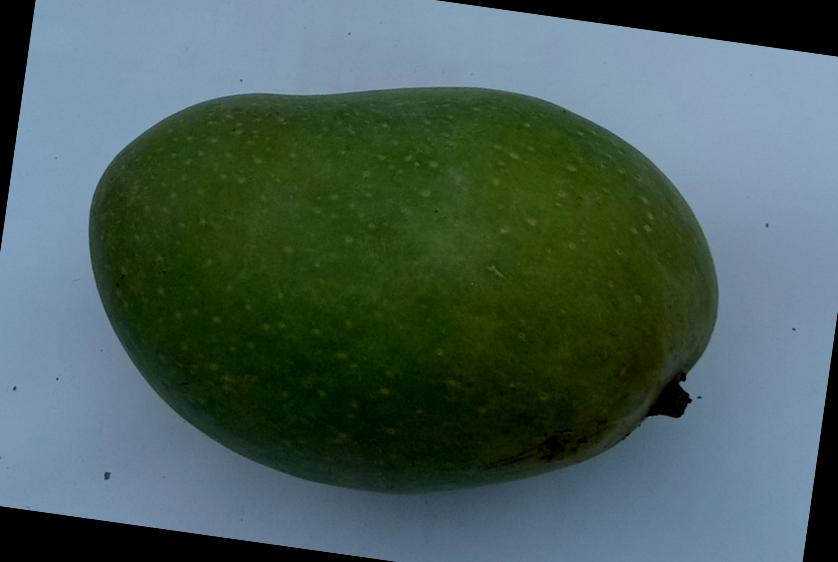Mango Unripe: (33, 11, 769, 544)
